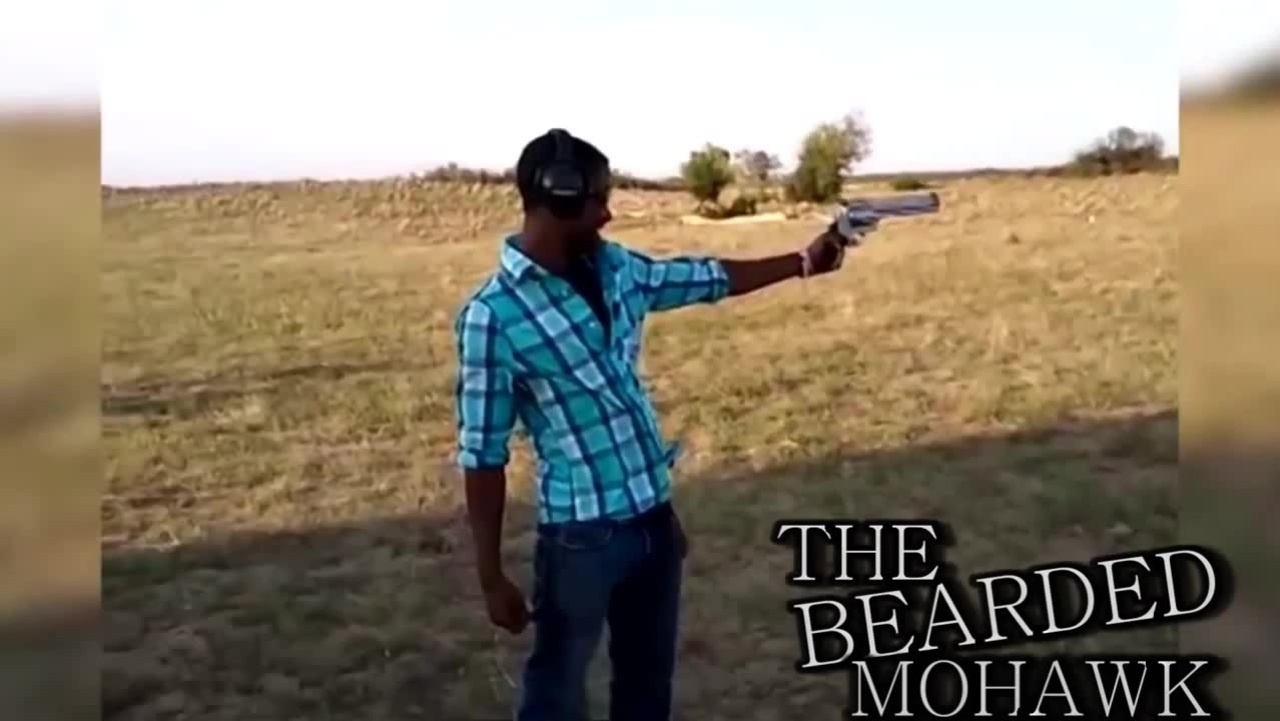Gun: (813, 174, 957, 242)
